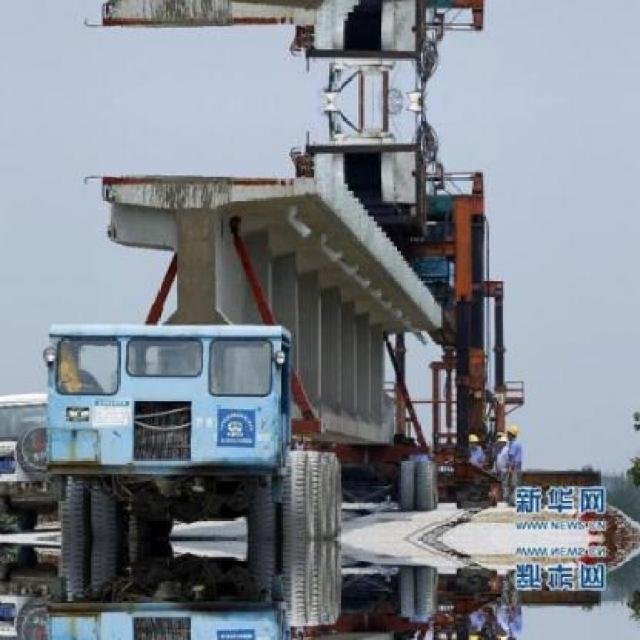hat: (466, 434, 480, 447), (505, 425, 524, 434)
